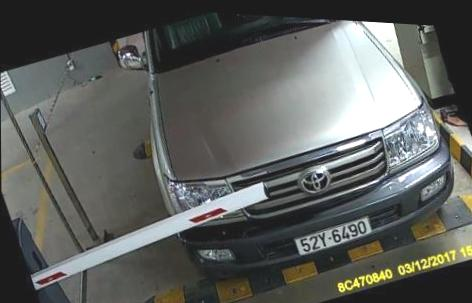License_Plate: (287, 210, 377, 263)
